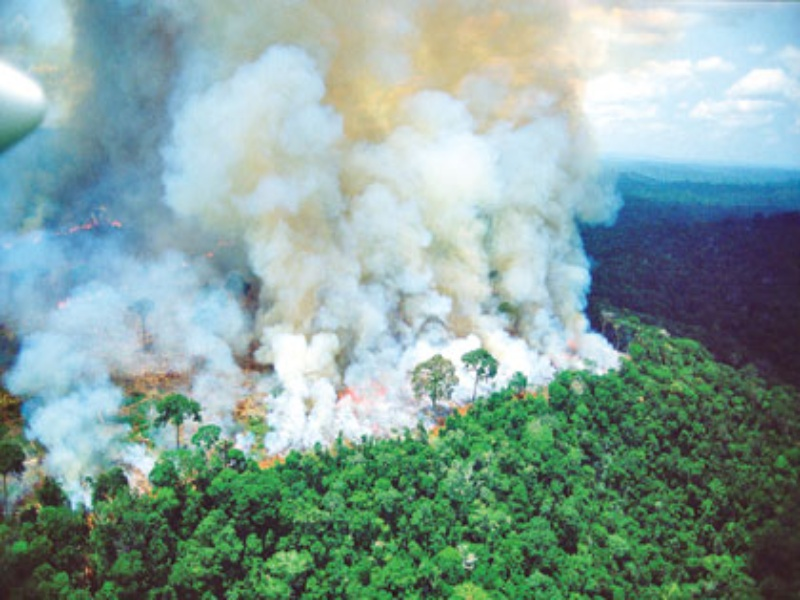smoke: (3, 1, 549, 369)
